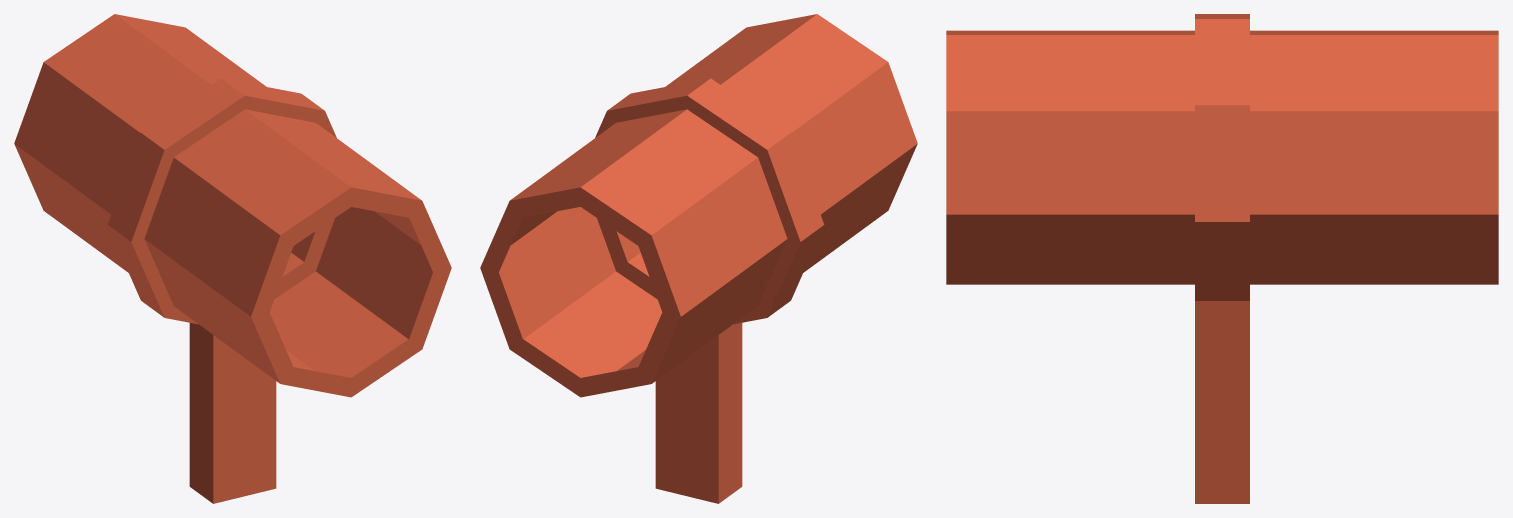
File: pipestandstraightliner.glb
3 views of the same model, side by side, from view 1: azimuth 30°, elevation 25°; view 2: azimuth 150°, elevation 25°; view 3: azimuth 270°, elevation 25° (orthographic). The views are drawn at different scales.
Parts seen in each view (by area): view 1: pipeStandStraightLiner; view 2: pipeStandStraightLiner; view 3: pipeStandStraightLiner.
Boxes of the visible parts, left/top/right/bottom form: pipeStandStraightLiner: left=14, top=14, right=451, bottom=503; pipeStandStraightLiner: left=480, top=14, right=917, bottom=503; pipeStandStraightLiner: left=946, top=14, right=1498, bottom=503.
Size of the model in its own units: 5.53 by 9.33 by 10.
